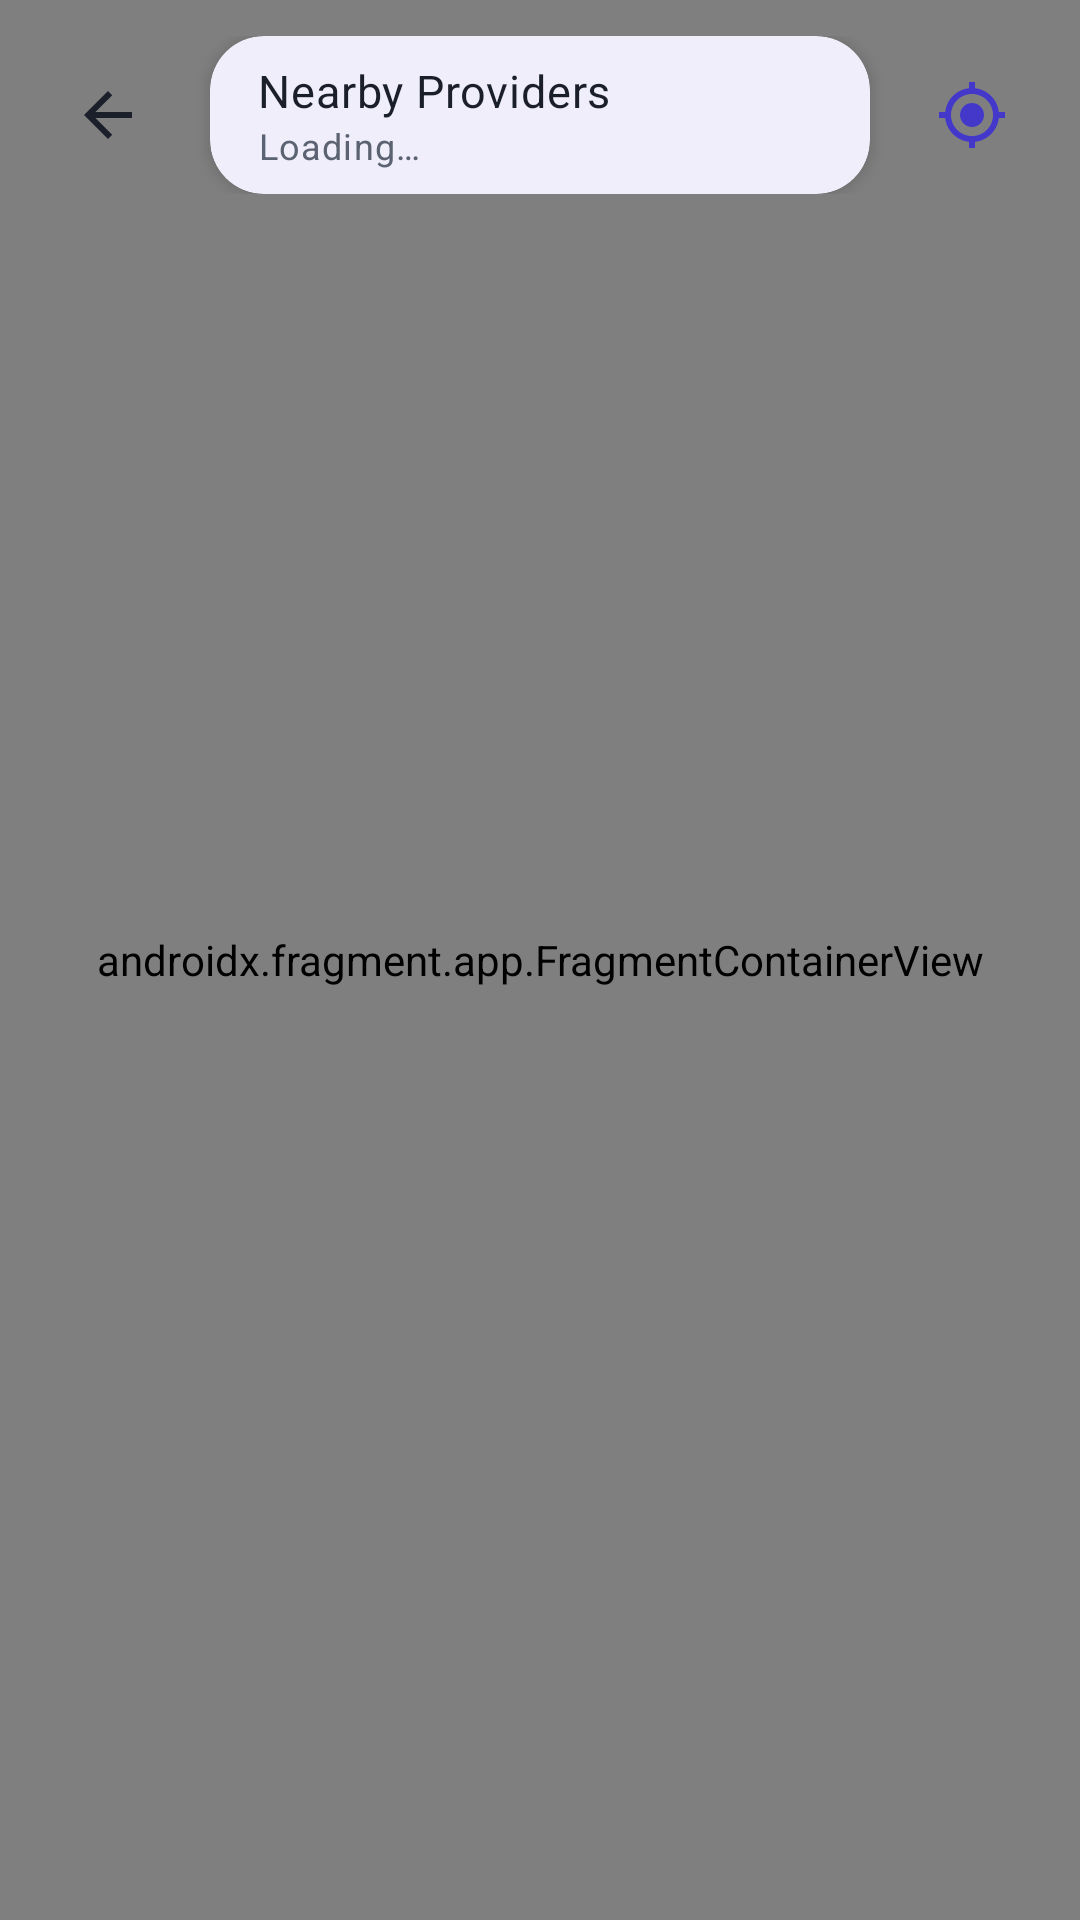

Where icons sit on this 1080 x 1920 app screen, as (x1,y1,x2,y2):
Back: (84,91,132,139)
Use current location: (939,82,1005,148)
